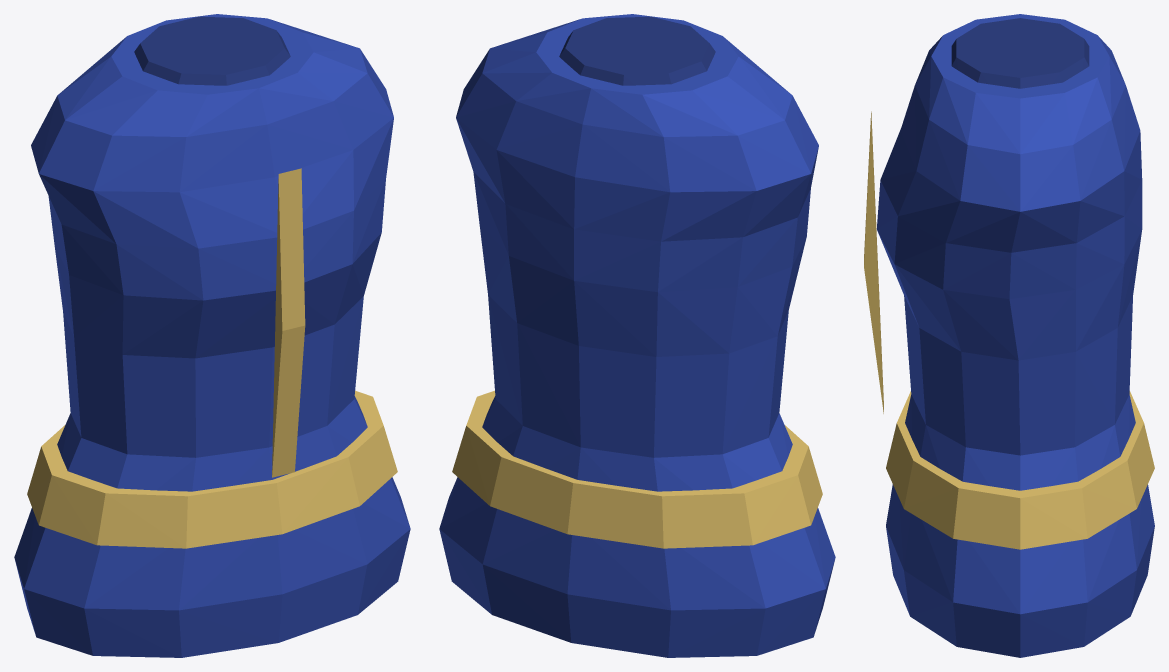
The model's file is gear_wizard_robe_torso_f.glb.
The picture shows the model from 3 angles, left to right: view 1: azimuth 30°, elevation 25°; view 2: azimuth 150°, elevation 25°; view 3: azimuth 270°, elevation 25°; orthographic projection. The views are drawn at different scales.
Visible parts, largest first — view 1: gear_wizard_robe_torso_f; view 2: gear_wizard_robe_torso_f; view 3: gear_wizard_robe_torso_f.
Boxes of the visible parts, <box> form: gear_wizard_robe_torso_f: <box>14,14,410,657</box>; gear_wizard_robe_torso_f: <box>439,14,835,657</box>; gear_wizard_robe_torso_f: <box>864,14,1154,657</box>.
Size of the model in its own units: 0.46 by 0.64 by 0.32.
